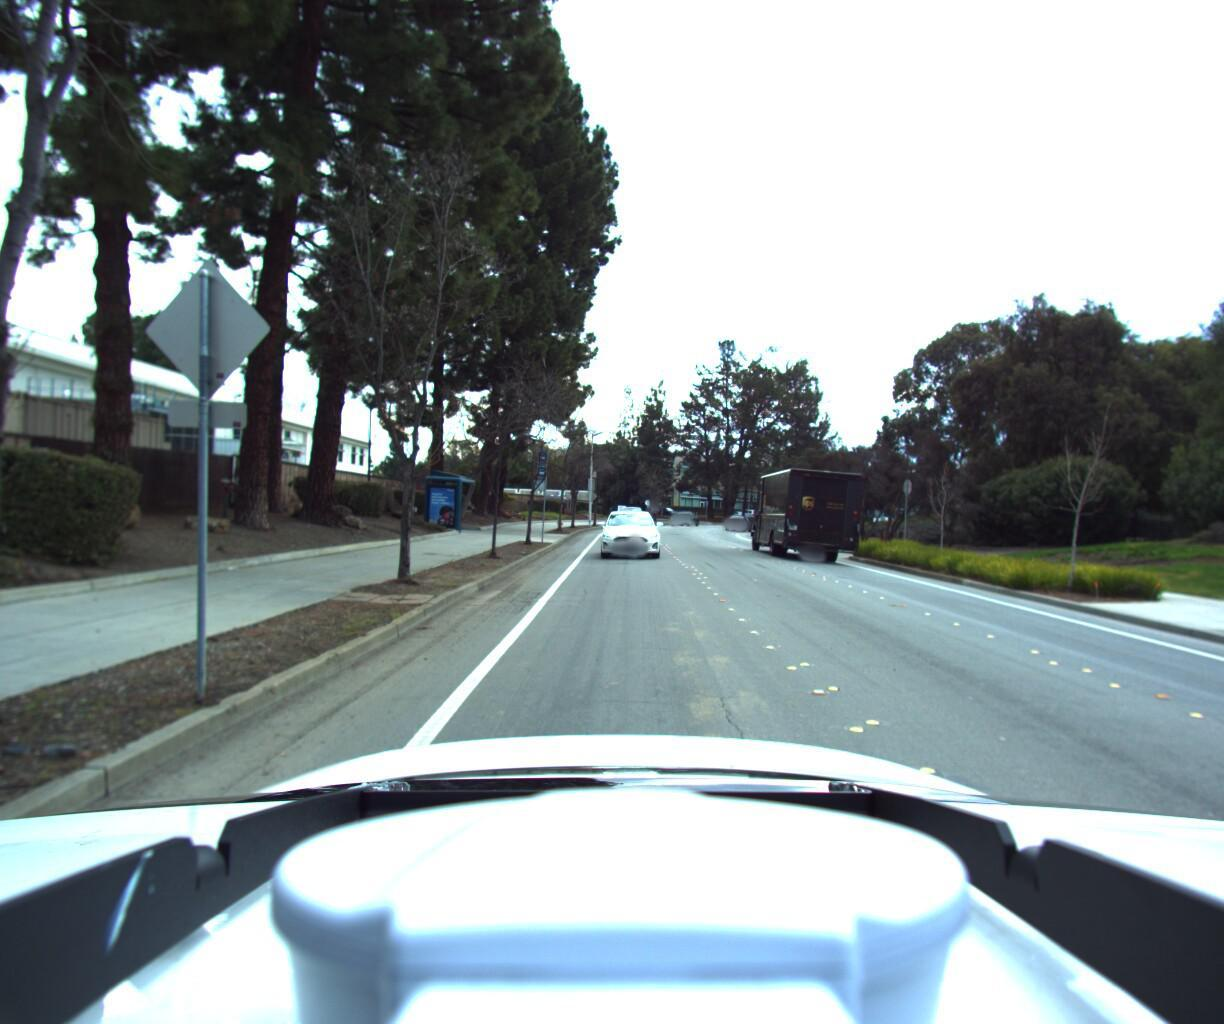car: (597, 503, 662, 557), (724, 511, 755, 528)
truck: (740, 460, 855, 563)
